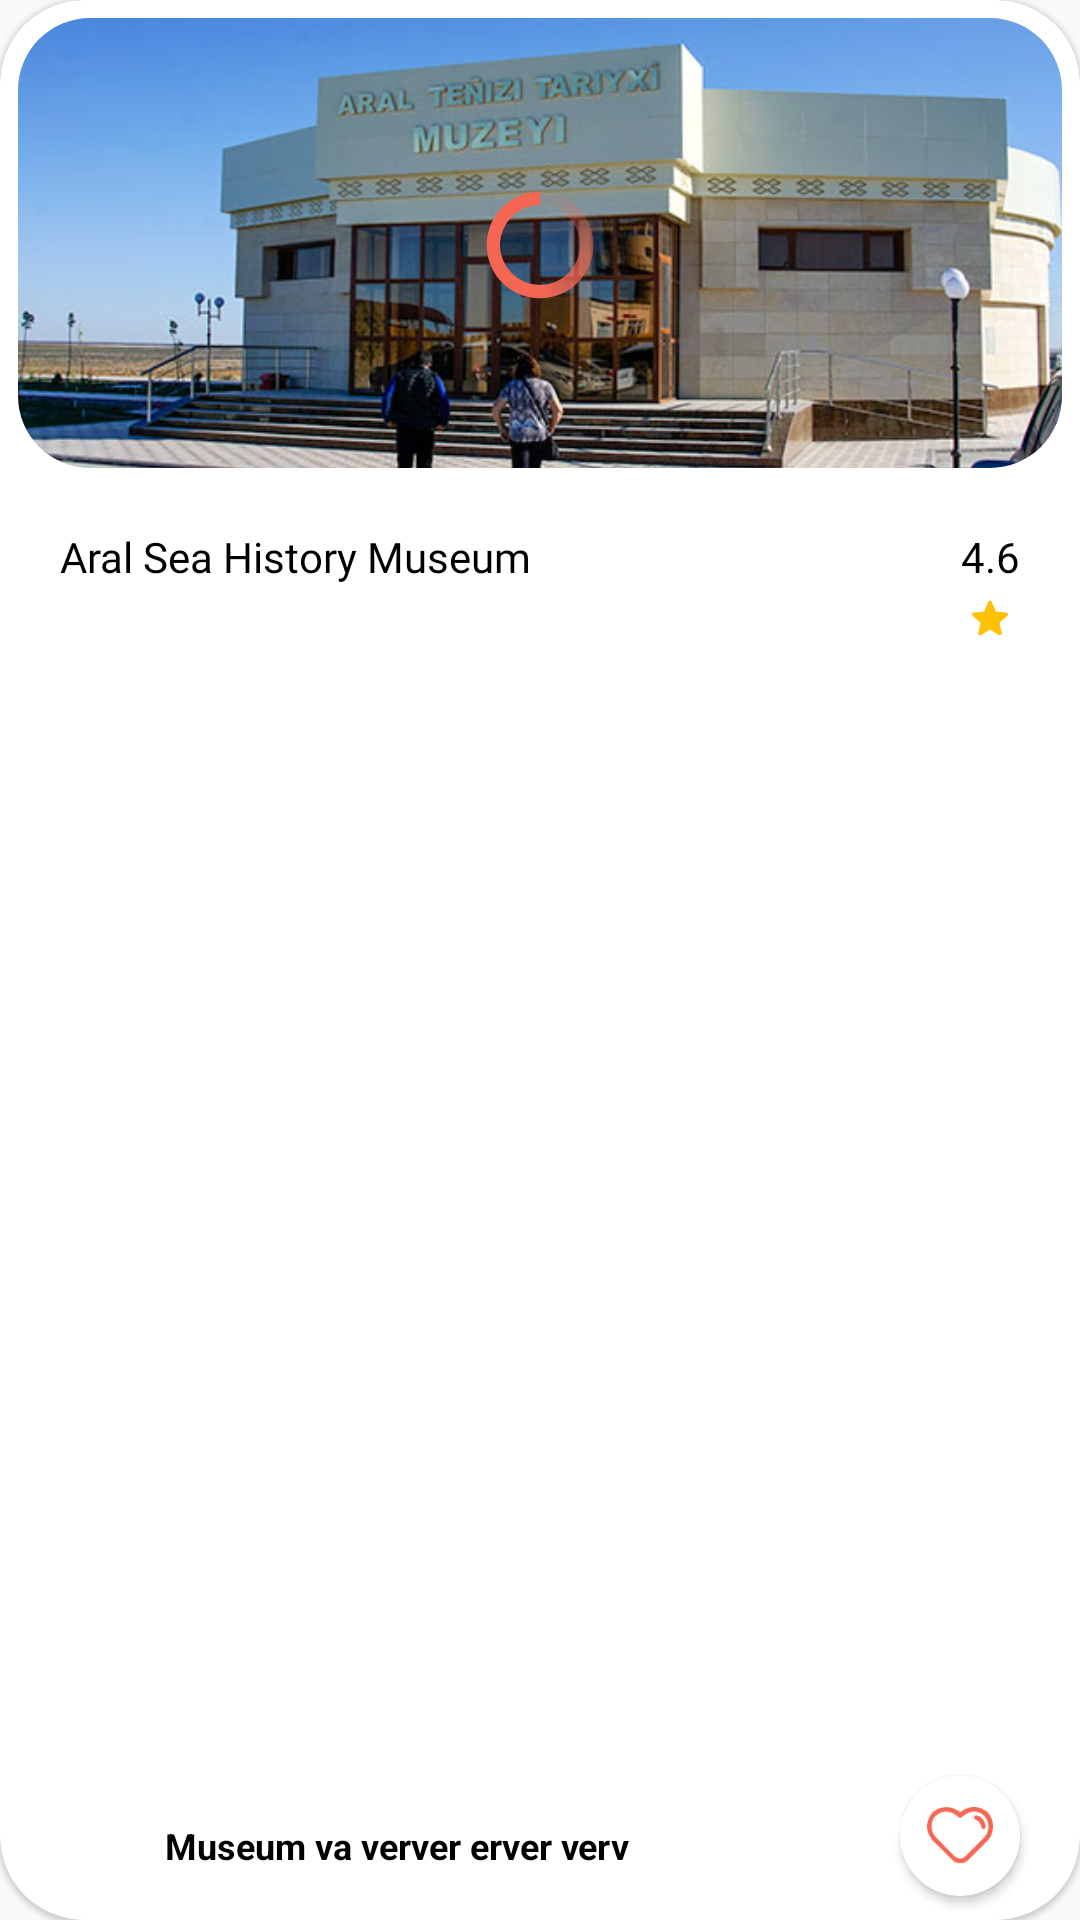

Icon bounding boxes for this 1080x1920 phone screenshot, format (x1, y1, x2, y2):
favourite: (927, 1807, 993, 1864)
